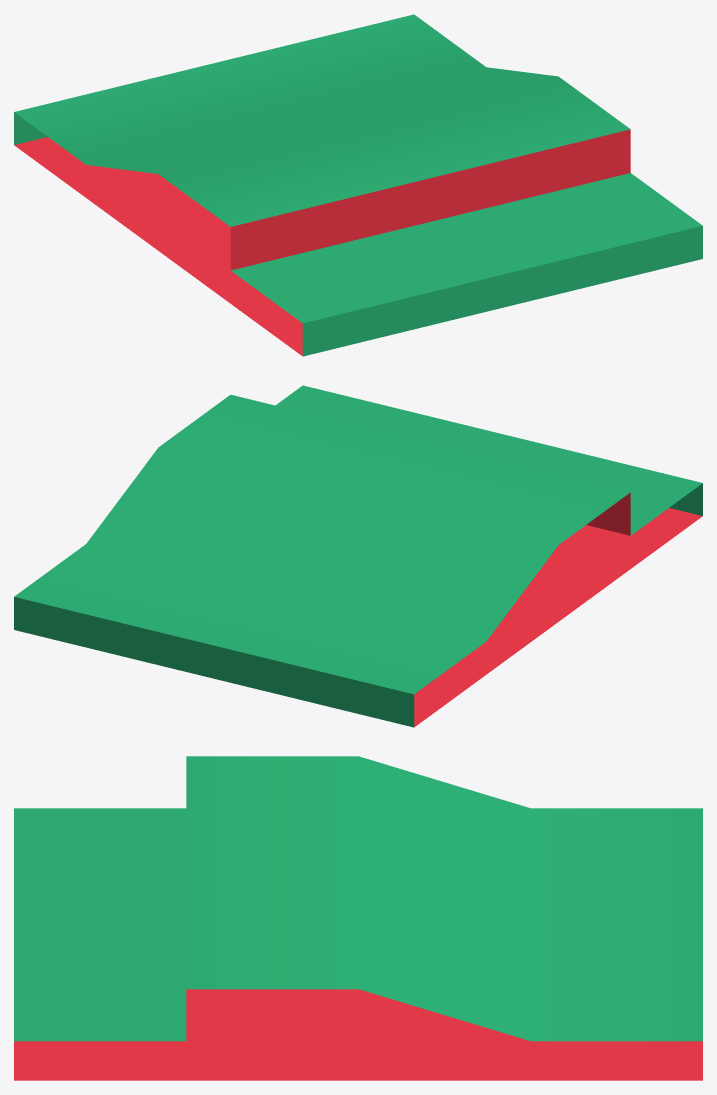
File: ramp square base.FBX
3 views of the same model, one above another, from view 1: azimuth 30°, elevation 25°; view 2: azimuth 150°, elevation 25°; view 3: azimuth 270°, elevation 25° (orthographic). The views are drawn at different scales.
Parts seen in each view (by area): view 1: rampSquare; view 2: rampSquare; view 3: rampSquare.
Boxes of the visible parts, x1=… form: rampSquare: x1=14, y1=14, x2=702, y2=356; rampSquare: x1=14, y1=385, x2=702, y2=727; rampSquare: x1=14, y1=756, x2=702, y2=1080.
Size of the model in its own units: 79.99 by 14.67 by 99.99.
